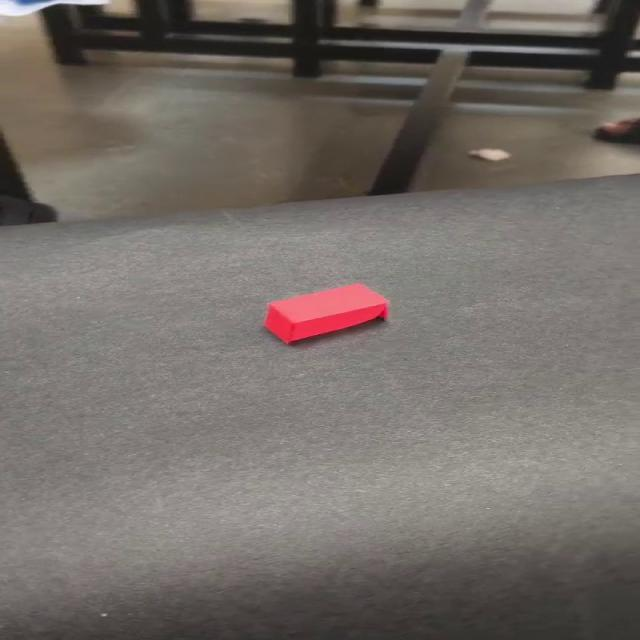red block: (262, 282, 389, 344)
